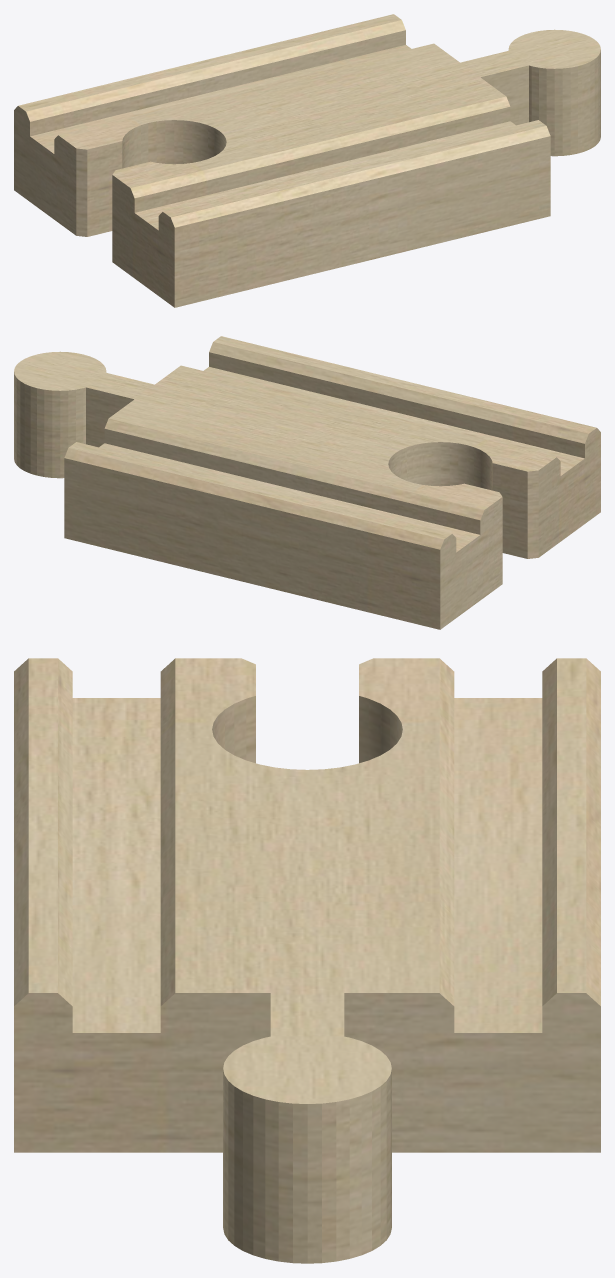
The picture shows the model from 3 angles, top to bottom: view 1: azimuth 30°, elevation 25°; view 2: azimuth 150°, elevation 25°; view 3: azimuth 270°, elevation 25°; orthographic projection. The views are drawn at different scales.
Visible parts, largest first — view 1: SketchUp; view 2: SketchUp; view 3: SketchUp.
Boxes of the visible parts, left/top/right/bottom form: SketchUp: left=14, top=14, right=600, bottom=307; SketchUp: left=14, top=336, right=600, bottom=629; SketchUp: left=14, top=658, right=600, bottom=1263.
Bounding box in the file's own units: 2.83 × 1.57 × 0.4724.
